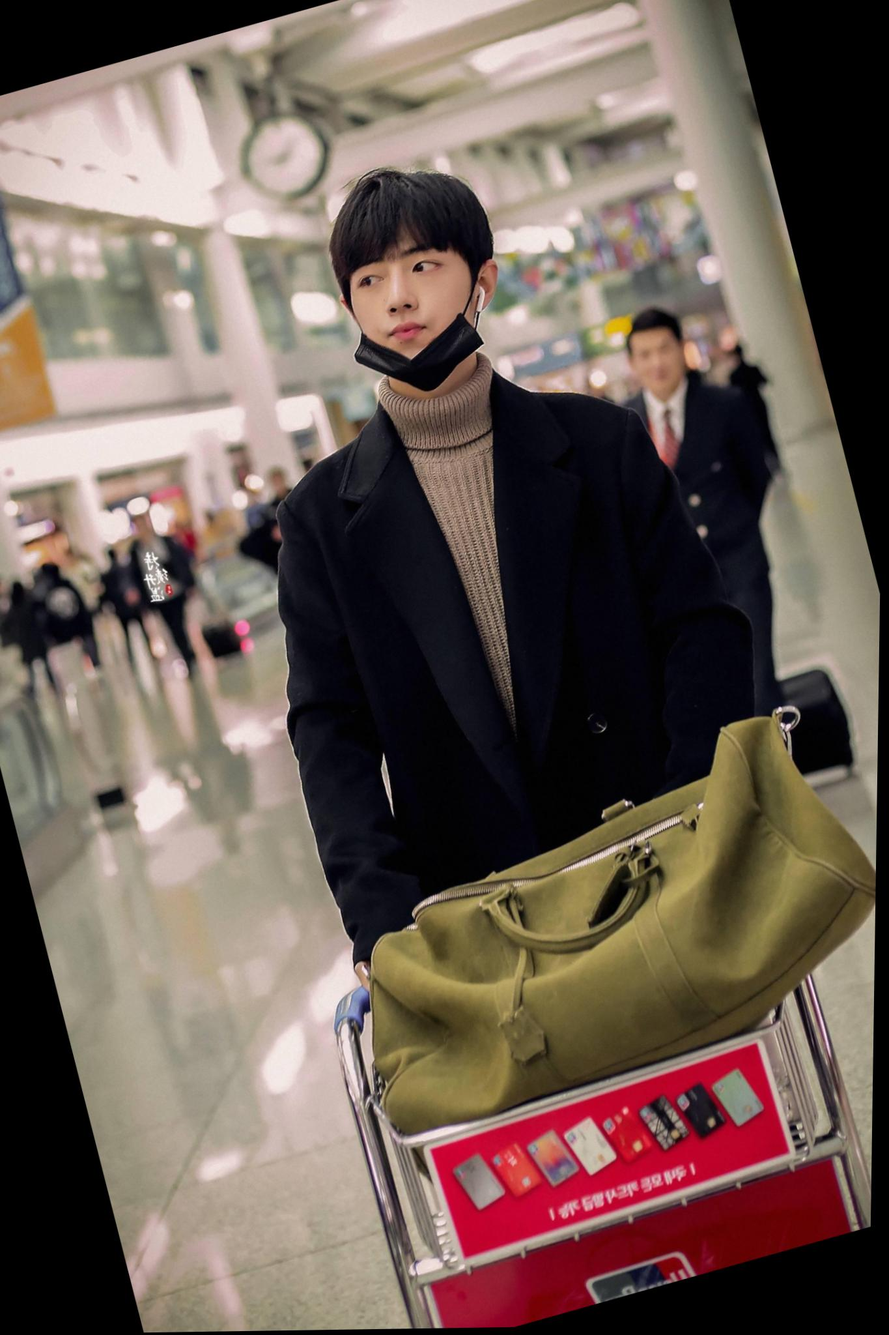NONE: (630, 332, 689, 402)
WRONG: (336, 216, 491, 394)
